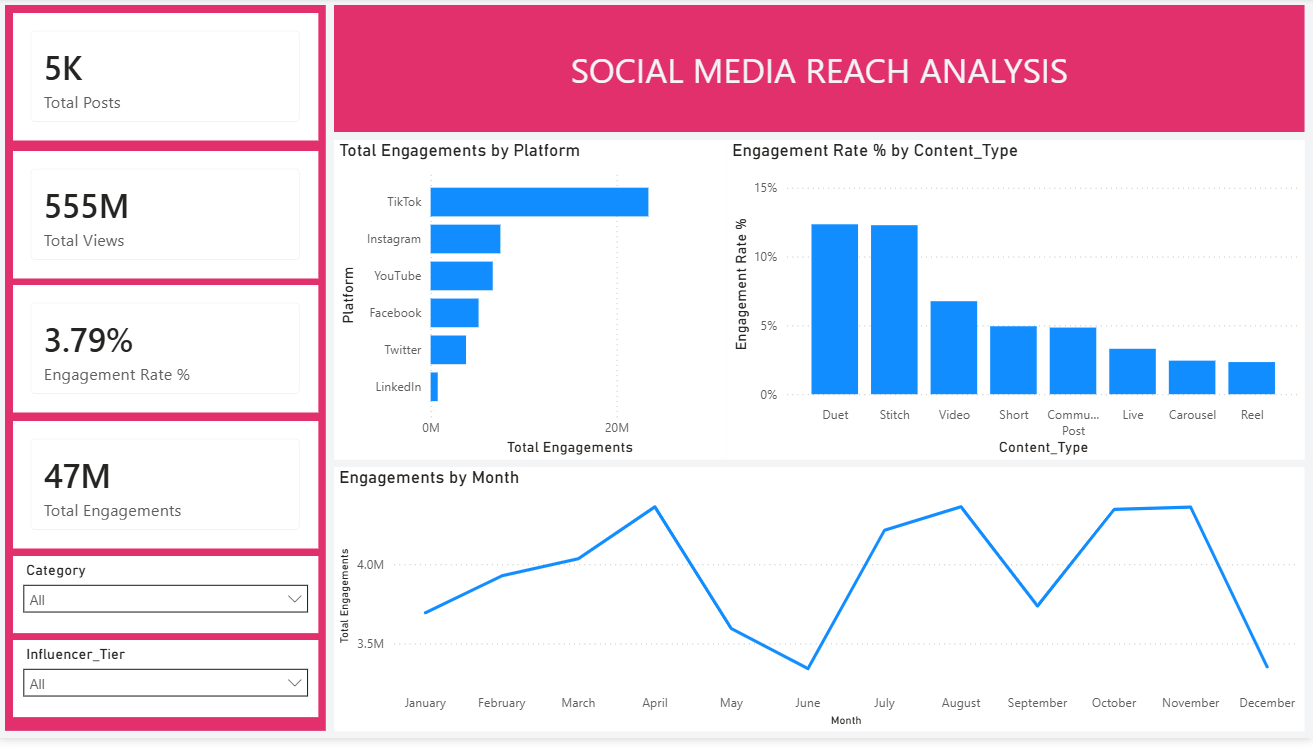

What the dashboard file says about the page in this screenshot:
{"tool":"powerbi","page":{"name":"Page 1","canvas":[1280,720],"ordinal":0},"visuals":[{"type":"shape","box":[7.8,6.8,312.2,706.1],"z":0},{"type":"shape","box":[327.8,6.8,944.4,123.5],"z":1000},{"type":"cardVisual","fields":{"Data":["social_media_engagement_dataset.Total Posts"]},"box":[15.6,14.6,296.7,123.5],"z":2000},{"type":"cardVisual","fields":{"Data":["social_media_engagement_dataset.Engagement Rate %"]},"box":[15.6,279.1,296.7,123.5],"z":3000},{"type":"cardVisual","fields":{"Data":["social_media_engagement_dataset.Total Engagements"]},"box":[15.6,411.4,296.7,123.5],"z":4000},{"type":"cardVisual","fields":{"Data":["social_media_engagement_dataset.Total Views"]},"box":[15.6,148.8,296.7,123.5],"z":5000},{"type":"lineChart","title":"Engagements by Month","fields":{"Category":["social_media_engagement_dataset.Month.Variation.Date Hierarchy.Month"],"Y":["social_media_engagement_dataset.Total Engagements"]},"box":[327.8,456.2,944.4,256.8],"z":6000},{"type":"clusteredBarChart","fields":{"Category":["social_media_engagement_dataset.Platform"],"Y":["social_media_engagement_dataset.Total Engagements"]},"box":[327.8,138.1,382.2,311.2],"z":7000},{"type":"clusteredColumnChart","fields":{"Category":["social_media_engagement_dataset.Content_Type"],"Y":["social_media_engagement_dataset.Engagement Rate %"]},"box":[710,138.1,562.2,311.2],"z":8000},{"type":"slicer","fields":{"Values":["social_media_engagement_dataset.Category"]},"box":[15.6,542.7,296.7,74.9],"z":9000},{"type":"slicer","fields":{"Values":["social_media_engagement_dataset.Influencer_Tier"]},"box":[15.6,624.4,296.7,74.9],"z":9001}]}

Visuals, with their boxes in screenshot pixels (x1, y1, x2, y2), scaled from the page's 1280x720 canvas onto the 1313x748 screenshot:
shape: (8,7,328,741)
shape: (336,7,1305,135)
cardVisual - social_media_engagement_dataset.Total Posts: (16,15,320,143)
cardVisual - social_media_engagement_dataset.Engagement Rate %: (16,290,320,418)
cardVisual - social_media_engagement_dataset.Total Engagements: (16,427,320,556)
cardVisual - social_media_engagement_dataset.Total Views: (16,155,320,283)
"Engagements by Month" lineChart: (336,474,1305,741)
clusteredBarChart - social_media_engagement_dataset.Platform x social_media_engagement_dataset.Total Engagements: (336,143,728,467)
clusteredColumnChart - social_media_engagement_dataset.Content_Type x social_media_engagement_dataset.Engagement Rate %: (728,143,1305,467)
slicer - social_media_engagement_dataset.Category: (16,564,320,642)
slicer - social_media_engagement_dataset.Influencer_Tier: (16,649,320,726)
